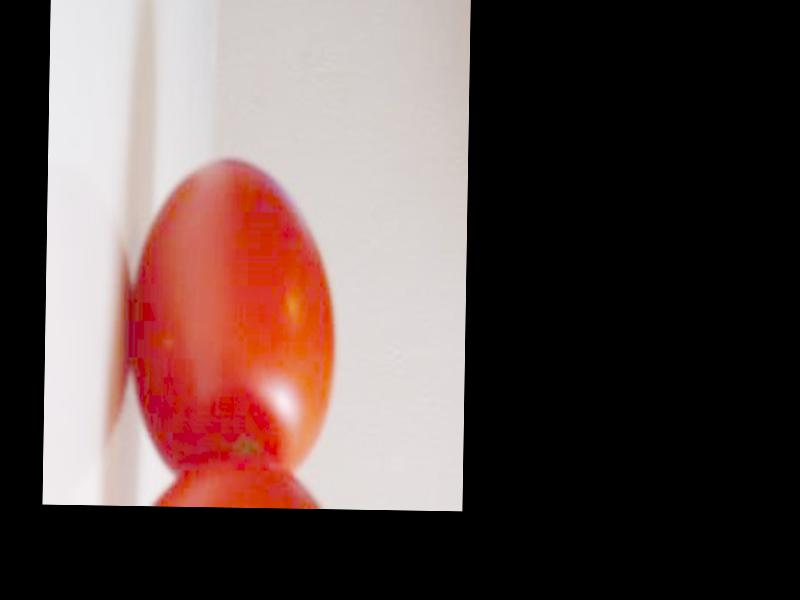Tomato: (126, 158, 337, 474)
